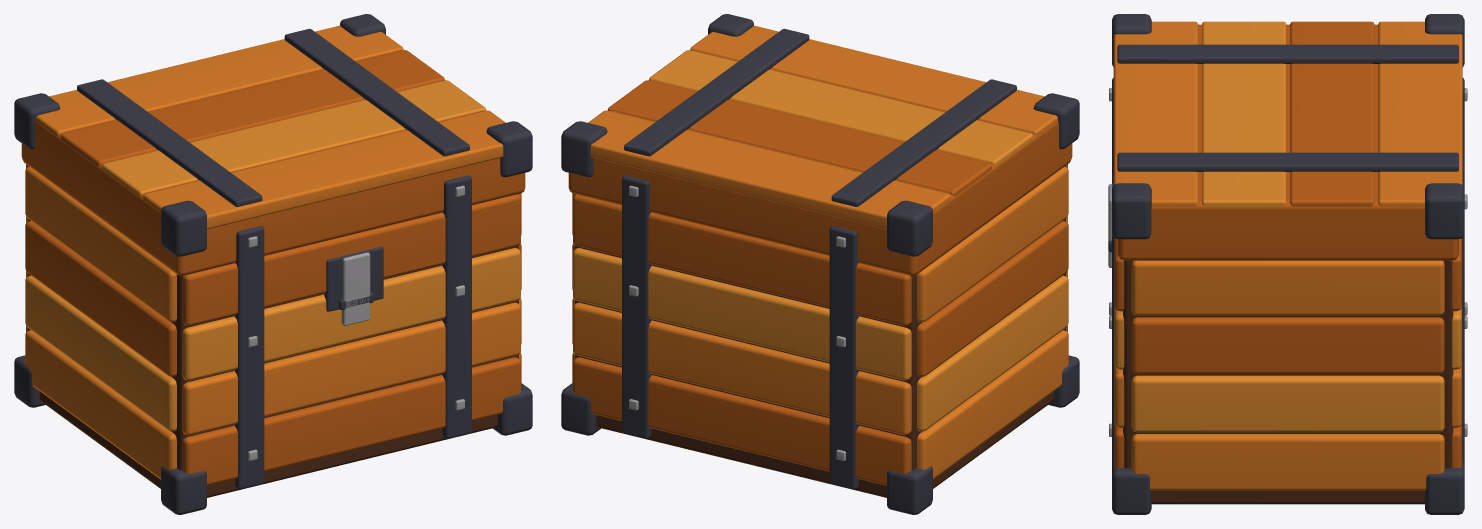
File: chest-small.glb
3 renders of one model, left to right at view 1: azimuth 30°, elevation 25°; view 2: azimuth 150°, elevation 25°; view 3: azimuth 270°, elevation 25°, orthographic. The views are drawn at different scales.
Visible parts, largest first — view 1: front back amber plank, side amber plank, level lid strap, side amber plank.002, dark inner body, silver strap rivet; view 2: front back amber plank, side amber plank, side amber plank.002, level lid strap, dark inner body, silver strap rivet; view 3: side amber plank, front back amber plank, side amber plank.002, level lid strap, dark inner body, silver strap rivet.
Boxes of the visible parts, x1,y1,x2,y2 form: front back amber plank: (21, 50, 525, 485); side amber plank: (25, 25, 521, 479); level lid strap: (14, 14, 532, 514); side amber plank.002: (25, 80, 521, 431); dark inner body: (28, 166, 518, 497); silver strap rivet: (248, 185, 464, 460); front back amber plank: (568, 50, 1072, 485); side amber plank: (572, 25, 1068, 479); side amber plank.002: (572, 50, 1068, 431); level lid strap: (561, 14, 1079, 514); dark inner body: (575, 166, 1065, 497); silver strap rivet: (629, 185, 845, 460); side amber plank: (1113, 21, 1462, 490); front back amber plank: (1114, 21, 1461, 467); side amber plank.002: (1114, 21, 1461, 432); level lid strap: (1108, 14, 1464, 514); dark inner body: (1123, 260, 1453, 504); silver strap rivet: (1108, 88, 1467, 436).
Bounding box in the file's own units: 1 × 0.8 × 0.815.
